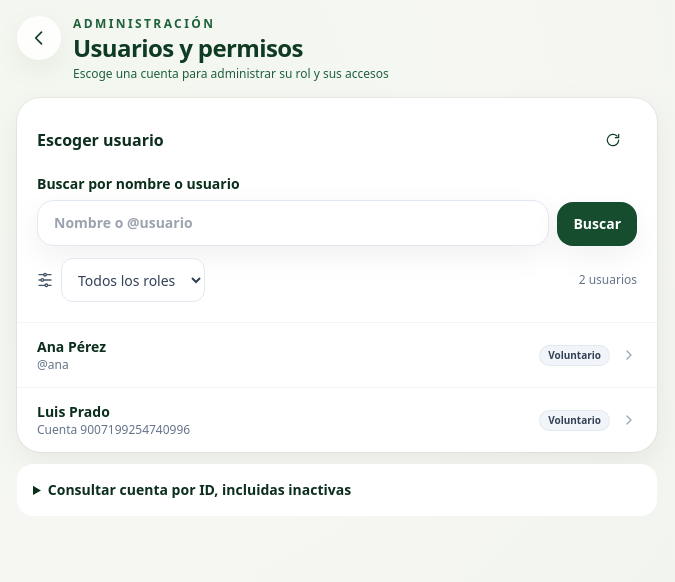
Test case: Usuarios y permisos › seleccionar una cuenta oculta las demás y lleva el foco al formulario
This screenshot has width=675, height=582.
Click the button with aria-label "Seleccionar a Luis Prado" at (73, 412), box [17,388,657,452]
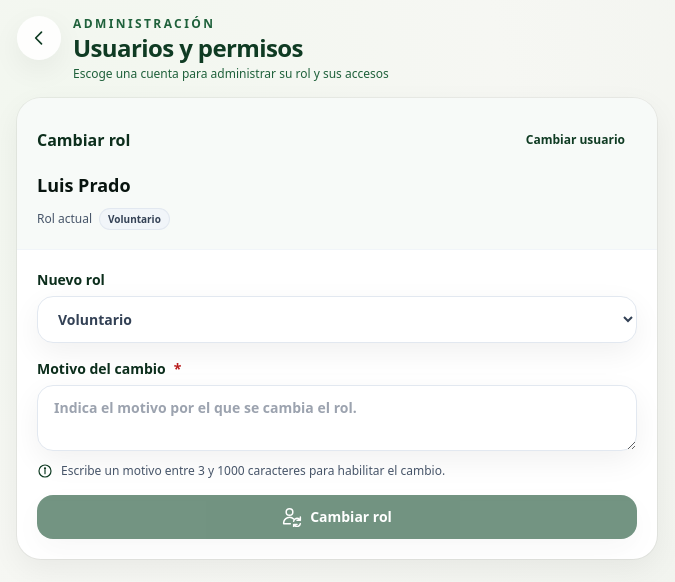
Expected: the text "Luis Prado" is shown, [37,173,131,197]
Expected: the button "Ana Pérez" is gone
Expected: the text labelled "Buscar por nombre o usuario" is gone
